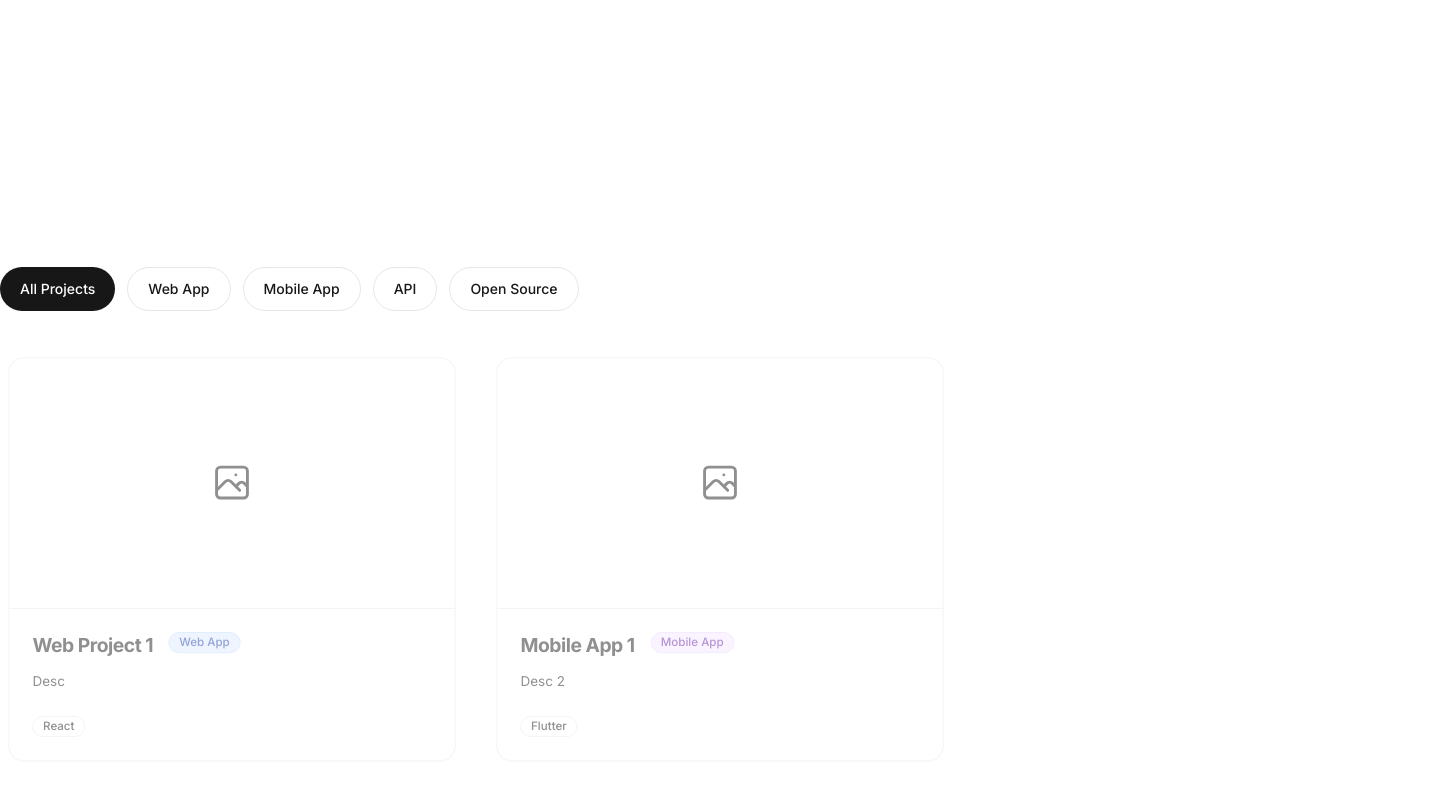
SoftwareClient › opens ProjectModal when ProjectCard is clicked
(page scrolled)
// Click project 1
Step 1. Click the button with aria-label "Lihat detail proyek Web Project 1" → (232, 559), box [8,357,456,761]
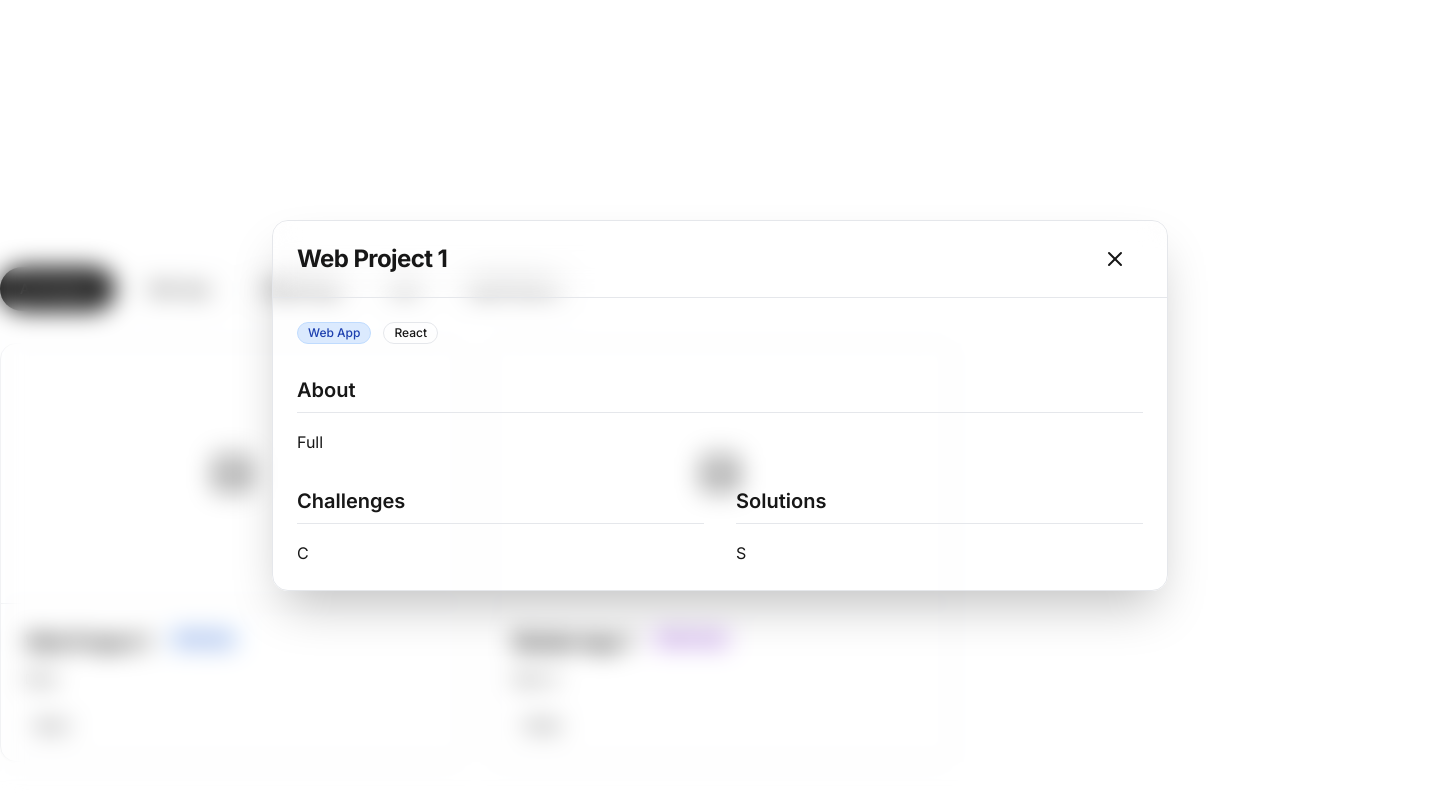
Check: the number of dialogs is 1, box [272,220,1168,590]
Check: the heading "Web Project 1" is shown, box [297,242,447,274]
